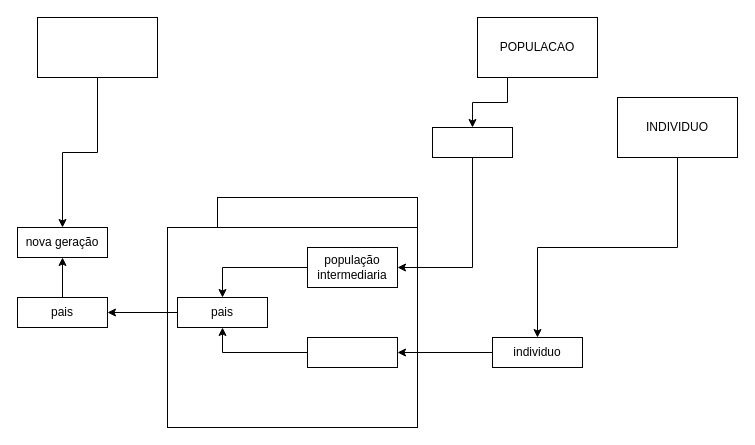
This 755x445 diagram has some shape labels left out. The box of each missing label's shape, as (x1, y1, x2, y2) in pixels:
ALGORITMO: (36, 16, 158, 78)
população: (432, 126, 512, 158)
seleção torneio: (216, 196, 418, 228)
setindividuo: (306, 336, 398, 368)
